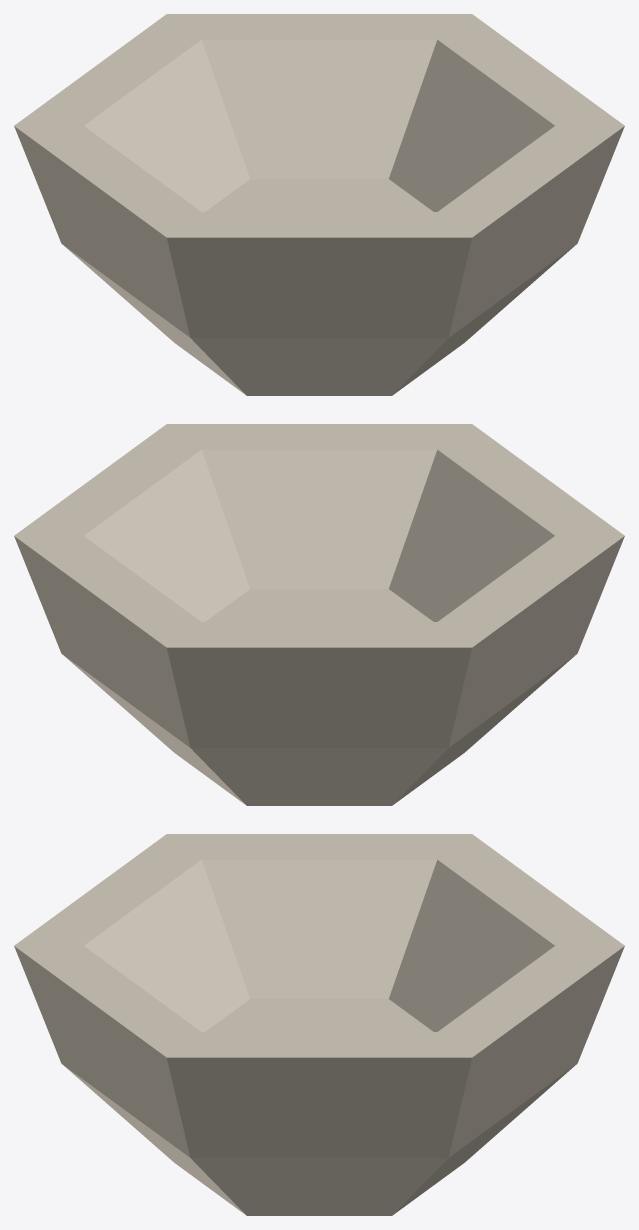
Rendered from plate.glb.
3 renders of one model, top to bottom at view 1: azimuth 30°, elevation 25°; view 2: azimuth 150°, elevation 25°; view 3: azimuth 270°, elevation 25°, orthographic.
Parts seen in each view (by area): view 1: Cylinder.002_11.001; view 2: Cylinder.002_11.001; view 3: Cylinder.002_11.001.
Part boxes in pixels (x1,y1,x2,y2): Cylinder.002_11.001: (14, 14, 624, 395); Cylinder.002_11.001: (14, 424, 624, 805); Cylinder.002_11.001: (14, 834, 624, 1215).
Bounding box in the file's own units: 0.2683 × 0.1214 × 0.3098.
Materials: 1 (1 with a texture image).
